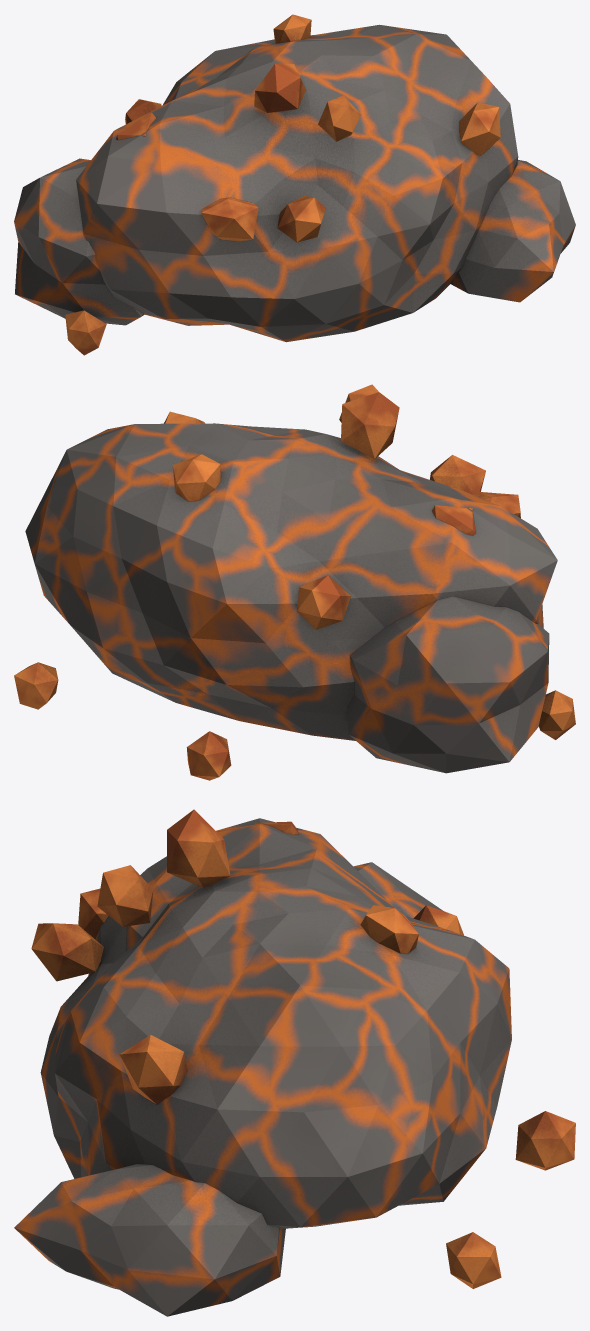
Rendered from mineral_cobre.fbx.
The picture shows the model from 3 angles, top to bottom: view 1: azimuth 30°, elevation 25°; view 2: azimuth 150°, elevation 25°; view 3: azimuth 270°, elevation 25°; orthographic projection. The views are drawn at different scales.
Visible parts, largest first — view 1: mineral_cobre; view 2: mineral_cobre; view 3: mineral_cobre.
Boxes of the visible parts, bbox=[...] form: mineral_cobre: bbox=[14, 14, 575, 355]; mineral_cobre: bbox=[14, 384, 575, 780]; mineral_cobre: bbox=[14, 809, 575, 1316].
Bounding box in the file's own units: 7.26 × 3.73 × 5.46.
1 material, 1 textured.
